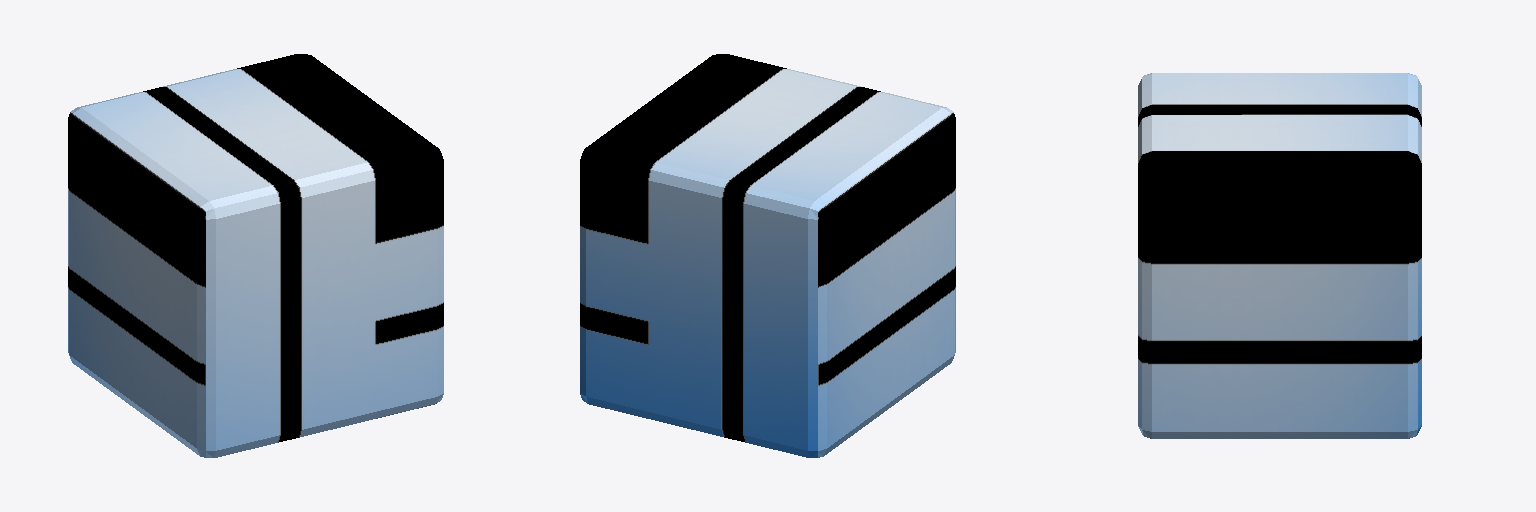
3 views of the same model, side by side, from view 1: azimuth 30°, elevation 25°; view 2: azimuth 150°, elevation 25°; view 3: azimuth 270°, elevation 25° (orthographic).
Parts seen in each view (by area): view 1: pCube1; view 2: pCube1; view 3: pCube1.
Part boxes in pixels (left/top/right/bottom): pCube1: left=68, top=54, right=443, bottom=457; pCube1: left=580, top=54, right=955, bottom=457; pCube1: left=1138, top=73, right=1421, bottom=438.
Size of the model in its own units: 3.58 by 3.58 by 3.58.
1 materials, 1 textured.